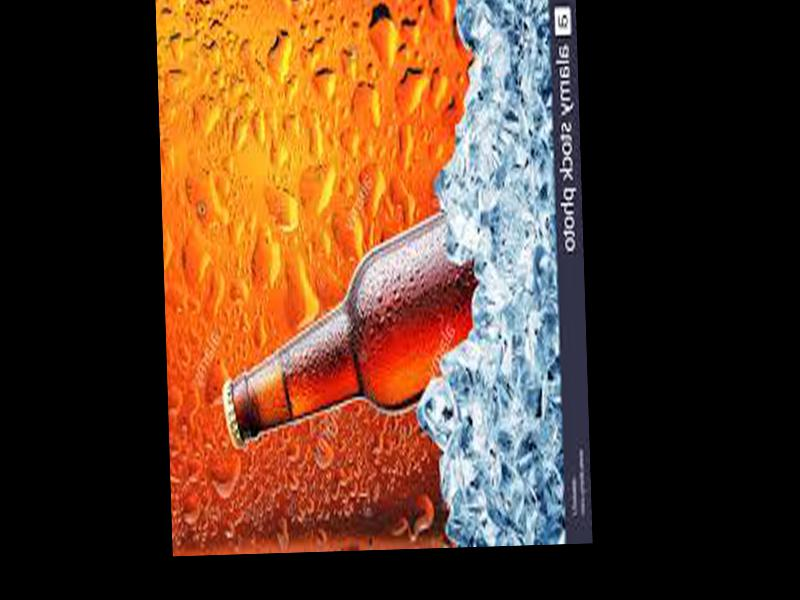Beer: (216, 214, 485, 461)
